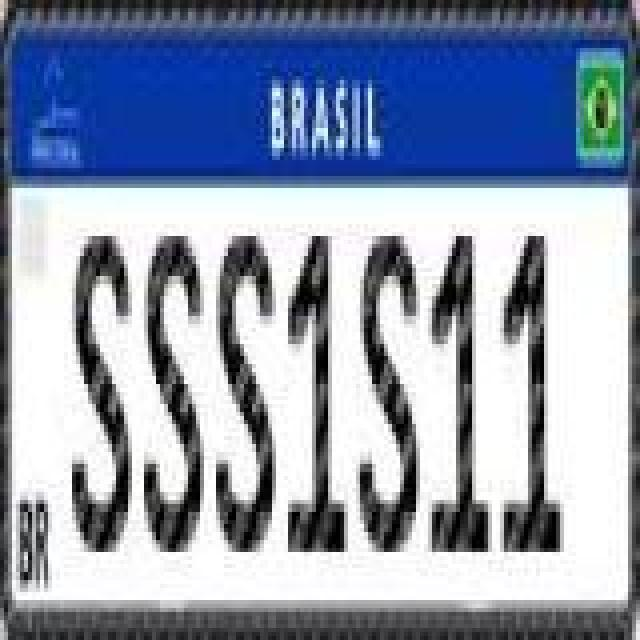1: (282, 224, 350, 560), (426, 232, 494, 568), (500, 224, 564, 560)
S: (70, 230, 138, 554), (142, 230, 210, 554), (214, 230, 282, 554), (356, 224, 420, 560)
